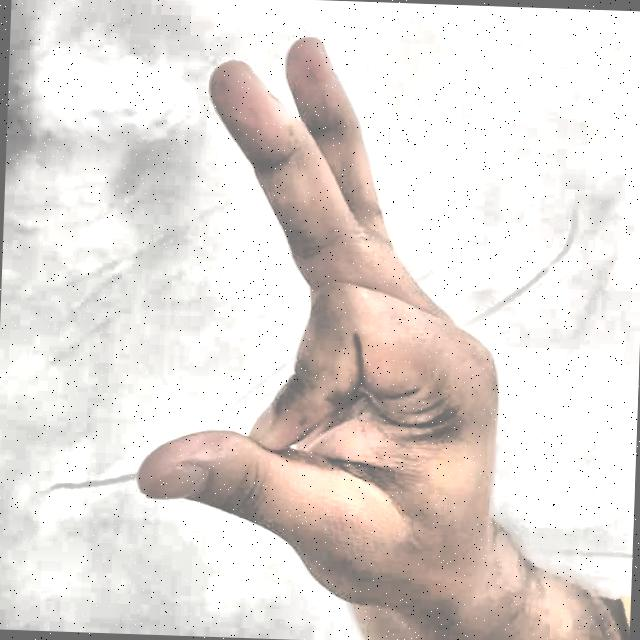Uo: (90, 16, 585, 633)
